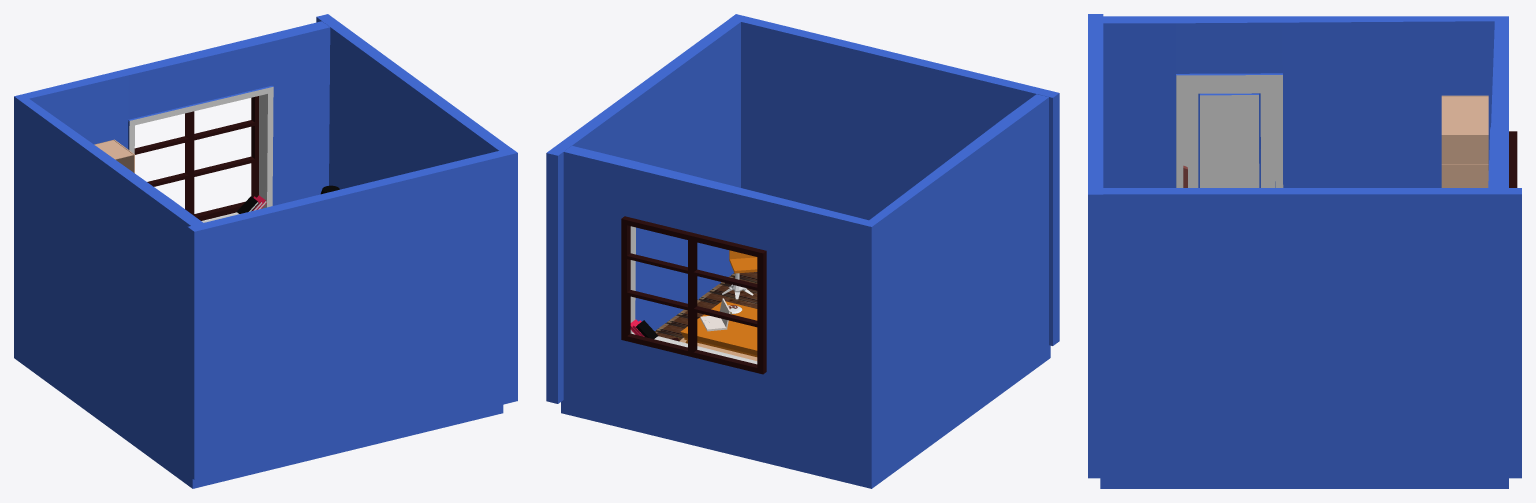
The model's file is Ambiente.glb.
3 renders of one model, left to right at view 1: azimuth 30°, elevation 25°; view 2: azimuth 150°, elevation 25°; view 3: azimuth 270°, elevation 25°, orthographic. The views are drawn at different scales.
Parts seen in each view (by area): view 1: Cube.025, Cube_Material.001_0, Cube.026, Cube.003__0, Cube_Door_0, Cube.002_Shelf_0; view 2: Cube_Material.001_0, Cube.025, Cube.026, Cube.003__0, Cube.008_Wood Table_0, Cube.001_Floor_0, Cube_Door_0; view 3: Cube.026, Cube_Material.001_0, Cube_Door_0, Cube.025, Cube.002_Shelf_0, Cube.003__0.
Boxes of the visible parts, x1,y1,x2,y2 form: Cube.025: (187, 148, 517, 479); Cube_Material.001_0: (14, 21, 503, 488); Cube.026: (316, 14, 510, 189); Cube.003__0: (134, 96, 258, 220); Cube_Door_0: (129, 86, 273, 222); Cube.002_Shelf_0: (94, 139, 134, 173); Cube_Material.001_0: (561, 94, 1050, 488); Cube.025: (729, 14, 1059, 345); Cube.026: (546, 16, 743, 403); Cube.003__0: (621, 216, 766, 374); Cube.008_Wood Table_0: (680, 301, 757, 356); Cube.001_Floor_0: (654, 272, 757, 340); Cube_Door_0: (630, 226, 757, 364); Cube.026: (1094, 188, 1521, 478); Cube_Material.001_0: (1100, 16, 1508, 488); Cube_Door_0: (1176, 75, 1283, 187); Cube.025: (1088, 14, 1103, 478); Cube.002_Shelf_0: (1441, 95, 1488, 187); Cube.003__0: (1509, 131, 1517, 187).
Size of the model in its own units: 22.1 by 17.1 by 22.45.
33 materials, 2 textured.
